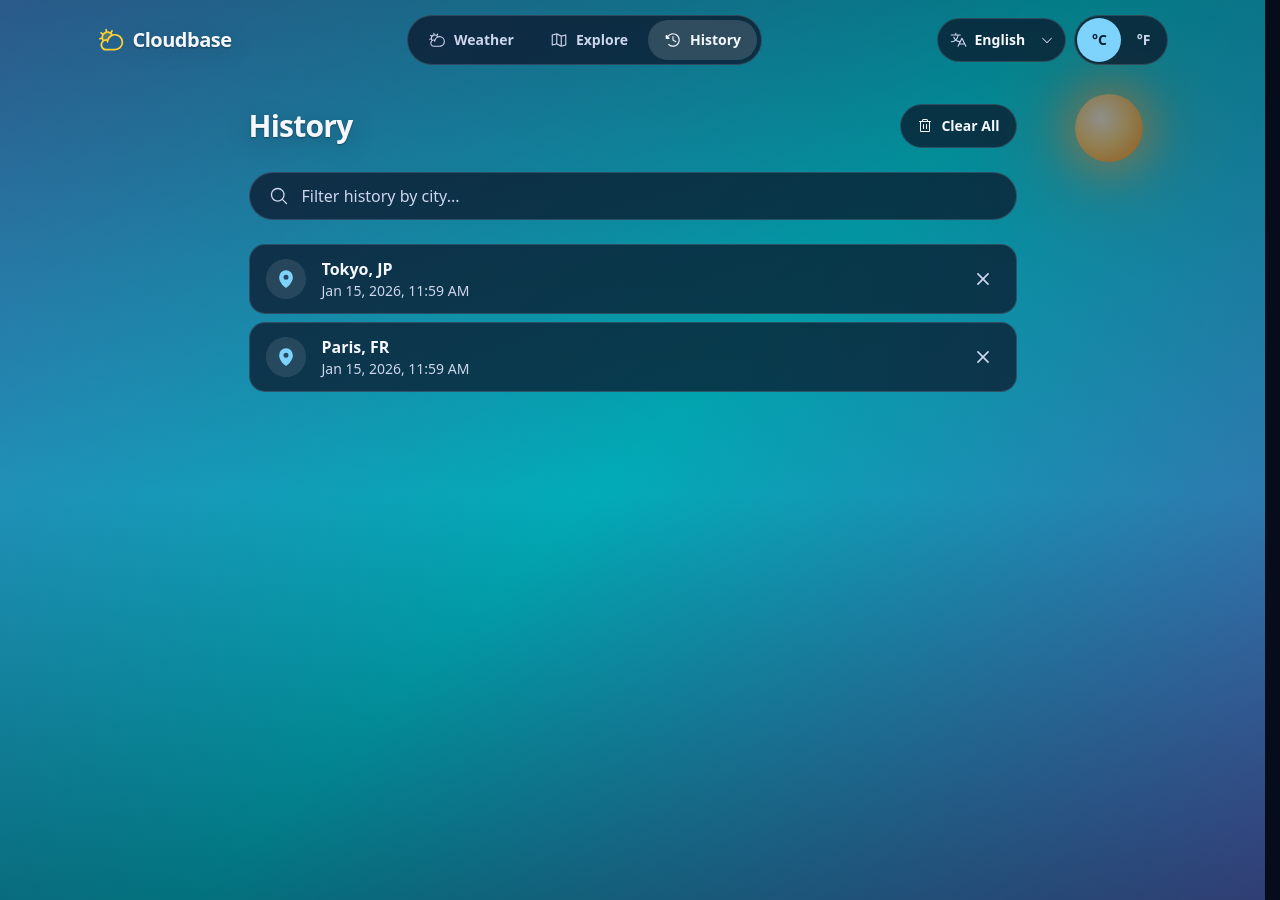
Test: history › deletes a single entry and keeps the rest
Expected: the number of list items is 2, [248,244,1016,314]; [248,322,1016,392]
Click the button named "Delete entry: Tokyo, JP": (982, 279) [960,257,1004,301]
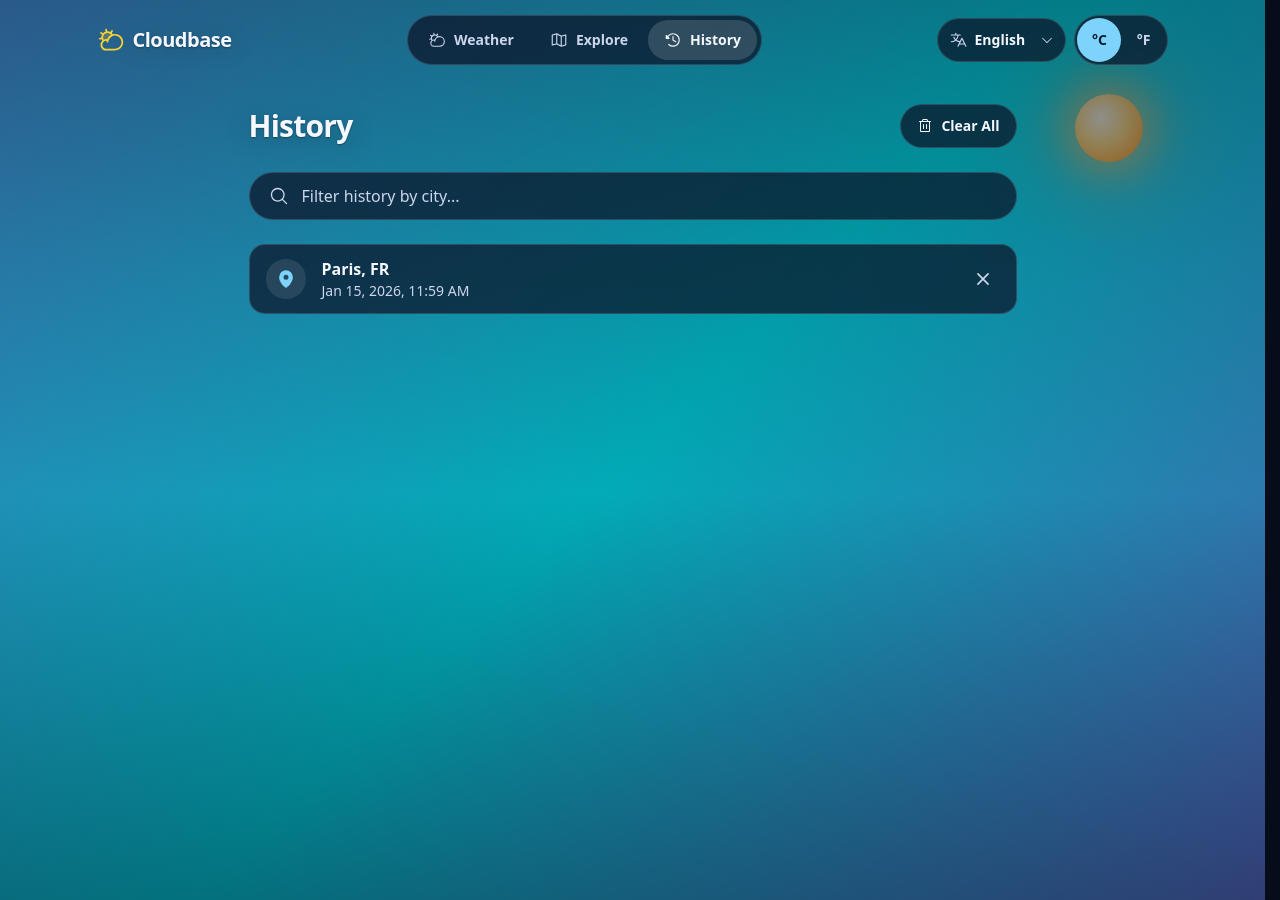
Expected: the list item shows "Paris, FR", [248,244,1016,314]
Expected: the number of list items is 1, [248,244,1016,314]
